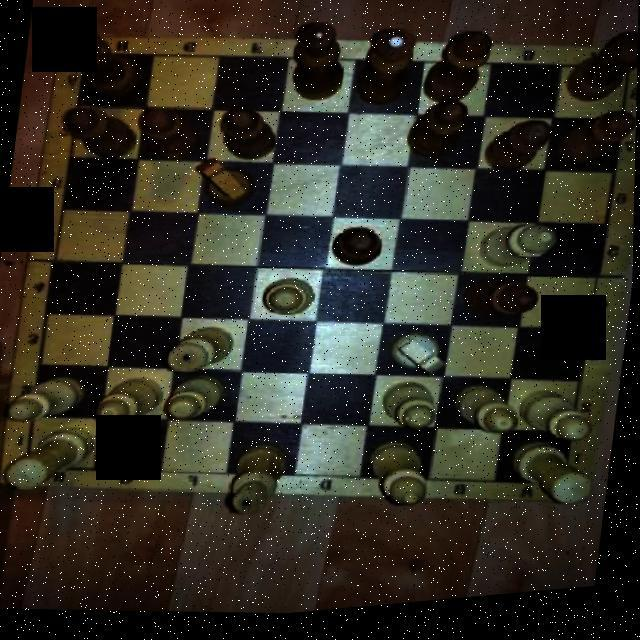chess-table-corners: (51, 32, 124, 87), (526, 464, 594, 518), (1, 436, 64, 492), (596, 53, 638, 109)
